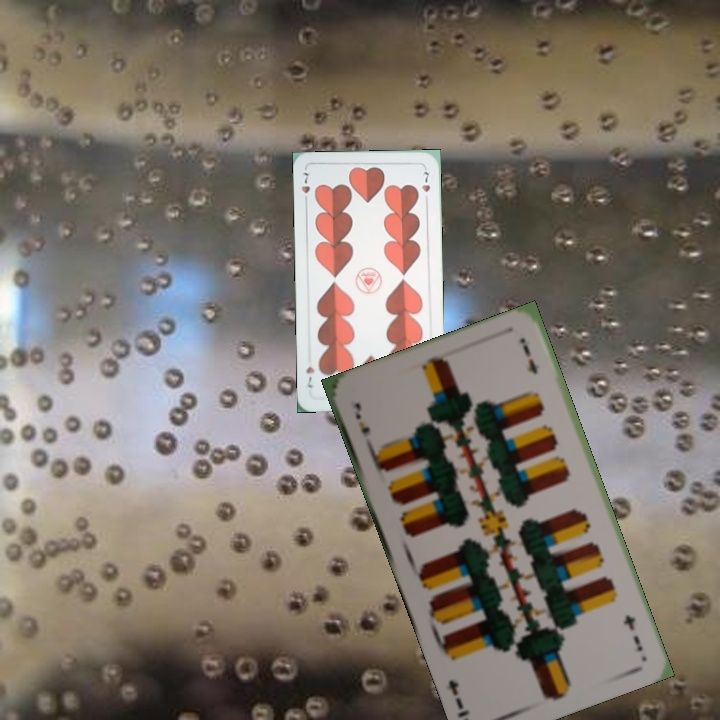E7: (350, 398, 376, 452), (619, 610, 645, 654)
H7: (297, 169, 312, 207)
